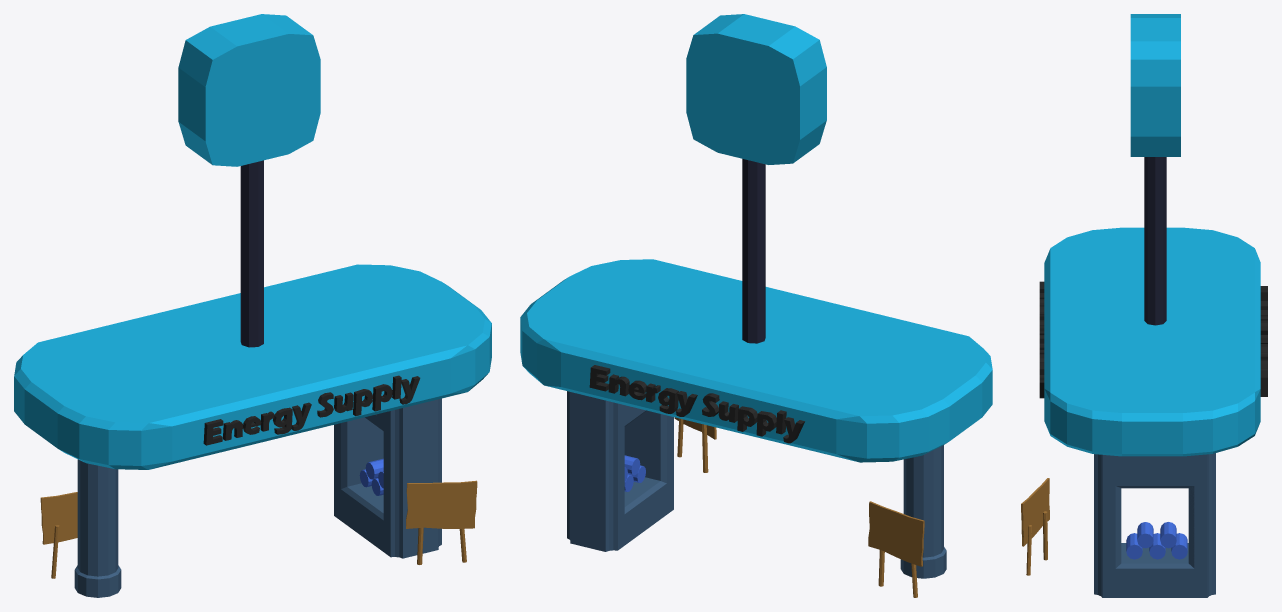
The model's file is CycleEngine_Stand_v1.fbx.
3 views of the same model, side by side, from view 1: azimuth 30°, elevation 25°; view 2: azimuth 150°, elevation 25°; view 3: azimuth 270°, elevation 25° (orthographic). The views are drawn at different scales.
Visible parts, largest first — view 1: Cylinder, Cube.004, Cube, Cylinder.001, Cylinder.008, Cube.001, Cylinder.009, Cylinder.002; view 2: Cylinder, Cube.004, Cube, Cylinder.008, Cube.002, Cylinder.001, Cylinder.002, Cylinder.009; view 3: Cylinder, Cube, Cube.004, Cylinder.008, Cylinder.009, Cube.002, Cube.001, Cylinder.006, Cylinder.007, Cylinder.003, Cylinder.005.
Boxes of the visible parts, left/top/right/bottom form: Cylinder: left=14, top=264, right=491, bottom=469; Cube.004: left=178, top=14, right=320, bottom=166; Cube: left=334, top=398, right=441, bottom=558; Cylinder.001: left=74, top=459, right=121, bottom=597; Cylinder.008: left=240, top=160, right=263, bottom=347; Cube.001: left=203, top=375, right=420, bottom=445; Cylinder.009: left=406, top=480, right=477, bottom=564; Cylinder.002: left=40, top=492, right=77, bottom=578; Cylinder: left=520, top=259, right=992, bottom=462; Cube.004: left=686, top=14, right=826, bottom=164; Cube: left=567, top=391, right=673, bottom=551; Cylinder.008: left=742, top=159, right=765, bottom=343; Cube.002: left=589, top=365, right=804, bottom=443; Cylinder.001: left=900, top=445, right=946, bottom=578; Cylinder.002: left=868, top=501, right=924, bottom=597; Cylinder.009: left=674, top=417, right=716, bottom=472; Cylinder: left=1044, top=227, right=1260, bottom=456; Cube: left=1094, top=453, right=1215, bottom=597; Cube.004: left=1130, top=14, right=1180, bottom=156; Cylinder.008: left=1144, top=157, right=1166, bottom=325; Cylinder.009: left=1021, top=478, right=1049, bottom=575; Cube.002: left=1260, top=286, right=1267, bottom=396; Cube.001: left=1039, top=281, right=1044, bottom=398; Cylinder.006: left=1160, top=522, right=1176, bottom=548; Cylinder.007: left=1137, top=522, right=1153, bottom=548; Cylinder.003: left=1171, top=533, right=1187, bottom=559; Cylinder.005: left=1126, top=533, right=1142, bottom=559.
Bounding box in the file's own units: 1238 × 1490 × 674.
